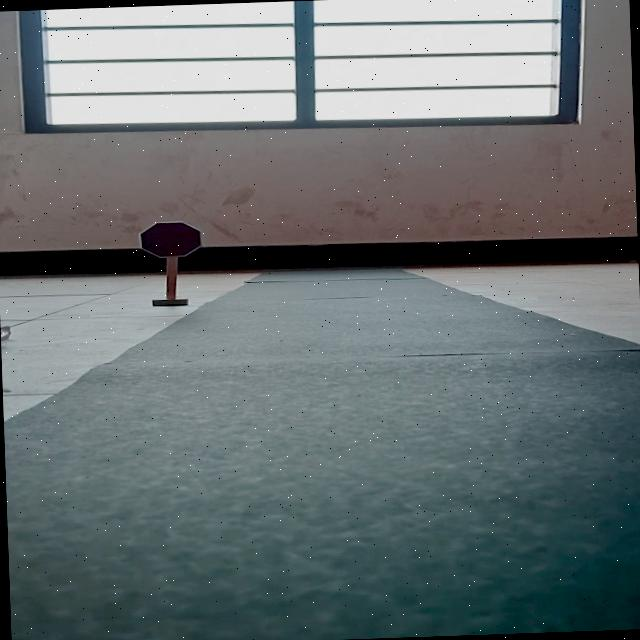Stop: (138, 220, 202, 258)
